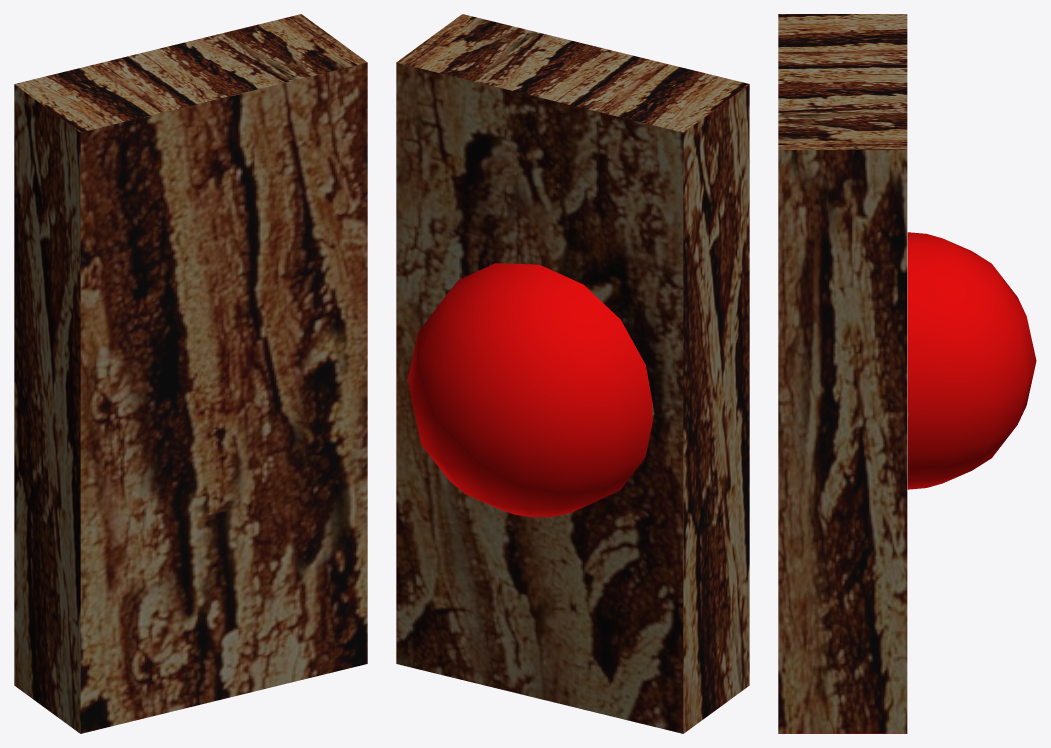
Rendered from button.FBX.
3 renders of one model, left to right at view 1: azimuth 30°, elevation 25°; view 2: azimuth 150°, elevation 25°; view 3: azimuth 270°, elevation 25°, orthographic. The views are drawn at different scales.
Visible parts, largest first — view 1: Box001; view 2: Box001; view 3: Box001.
Part boxes in pixels (box(x1,y1,x2,y2)): Box001: box(14, 14, 367, 733); Box001: box(396, 14, 749, 733); Box001: box(778, 14, 1036, 733).
Size of the model in its own units: 19.69 by 39.37 by 15.77.
